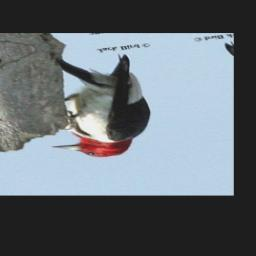Woodpecker: (8, 51, 175, 163)
